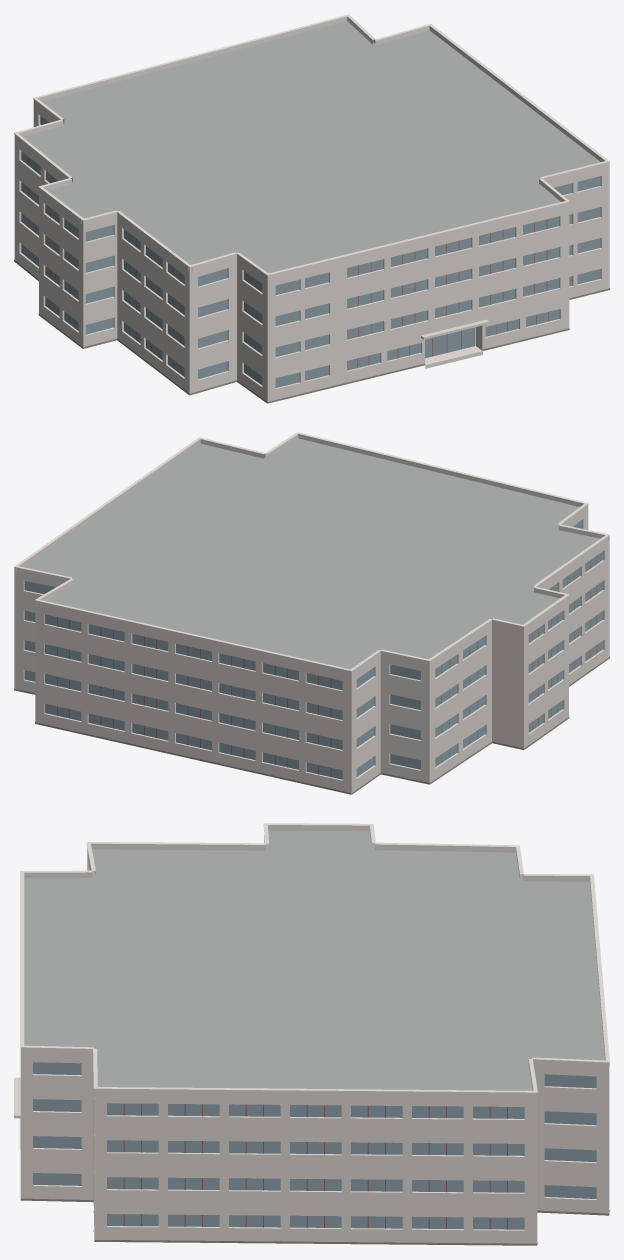
3 views of the same model, one above another, from view 1: azimuth 30°, elevation 25°; view 2: azimuth 150°, elevation 25°; view 3: azimuth 270°, elevation 25° (orthographic). The views are drawn at different scales.
Parts seen in each view (by area): view 1: osm136961597__roof, osm136961597__wall, osm136961597__glass, osm136961597__parapet, osm136961597__trim, osm136961597__base, osm136961597__frame, osm136961597__entranceThreshold_0; view 2: osm136961597__roof, osm136961597__wall, osm136961597__glass, osm136961597__parapet, osm136961597__trim, osm136961597__base, osm136961597__frame; view 3: osm136961597__roof, osm136961597__wall, osm136961597__glass, osm136961597__parapet, osm136961597__trim, osm136961597__base, osm136961597__frame.
Boxes of the visible parts, left/top/right/bottom form: osm136961597__roof: left=23, top=21, right=600, bottom=273; osm136961597__wall: left=14, top=103, right=609, bottom=402; osm136961597__glass: left=21, top=116, right=600, bottom=387; osm136961597__parapet: left=14, top=16, right=609, bottom=279; osm136961597__trim: left=14, top=14, right=609, bottom=275; osm136961597__base: left=14, top=259, right=609, bottom=403; osm136961597__frame: left=28, top=156, right=548, bottom=373; osm136961597__entranceThreshold_0: left=425, top=346, right=482, bottom=368; osm136961597__roof: left=23, top=438, right=599, bottom=669; osm136961597__wall: left=14, top=508, right=609, bottom=794; osm136961597__glass: left=24, top=520, right=602, bottom=779; osm136961597__parapet: left=14, top=434, right=609, bottom=675; osm136961597__trim: left=14, top=432, right=609, bottom=671; osm136961597__base: left=14, top=657, right=609, bottom=794; osm136961597__frame: left=57, top=556, right=596, bottom=776; osm136961597__roof: left=24, top=830, right=605, bottom=1245; osm136961597__wall: left=20, top=836, right=609, bottom=1243; osm136961597__glass: left=33, top=1062, right=596, bottom=1229; osm136961597__parapet: left=20, top=825, right=609, bottom=1097; osm136961597__trim: left=20, top=823, right=609, bottom=1093; osm136961597__base: left=20, top=1198, right=609, bottom=1245; osm136961597__frame: left=123, top=1103, right=507, bottom=1229.
Bounding box in the file's own units: 56.34 × 15.35 × 52.67.
10 materials, 1 textured.
